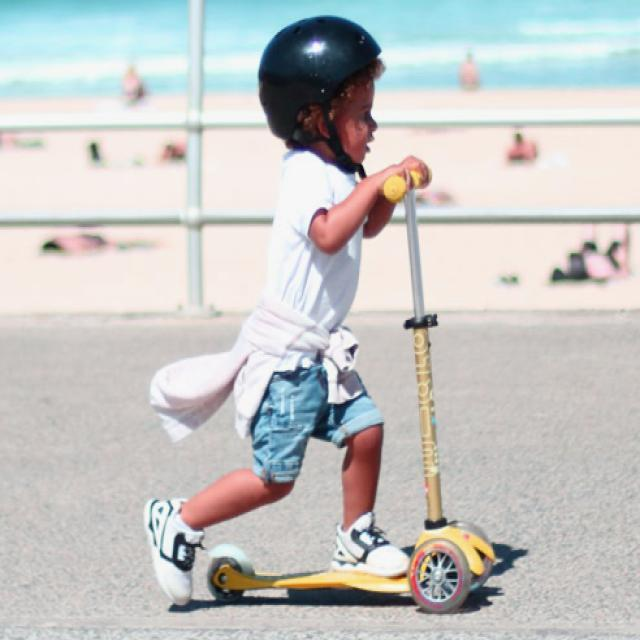Helmet: (253, 6, 389, 178)
